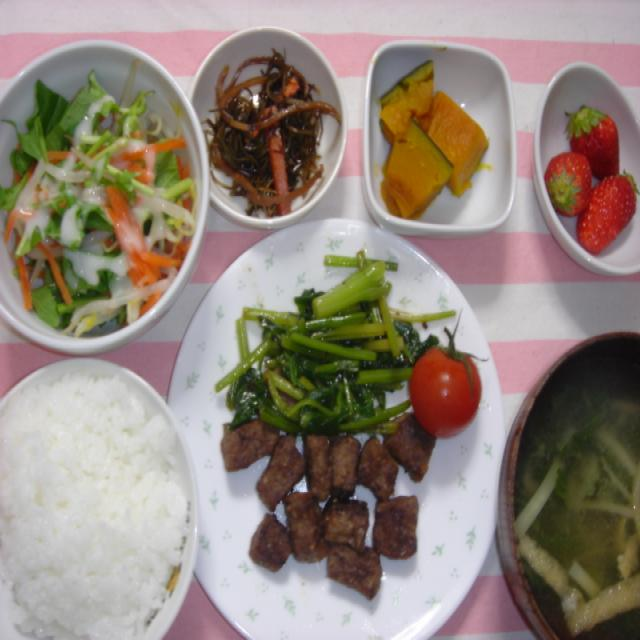蔬菜料理: (200, 241, 464, 448)
